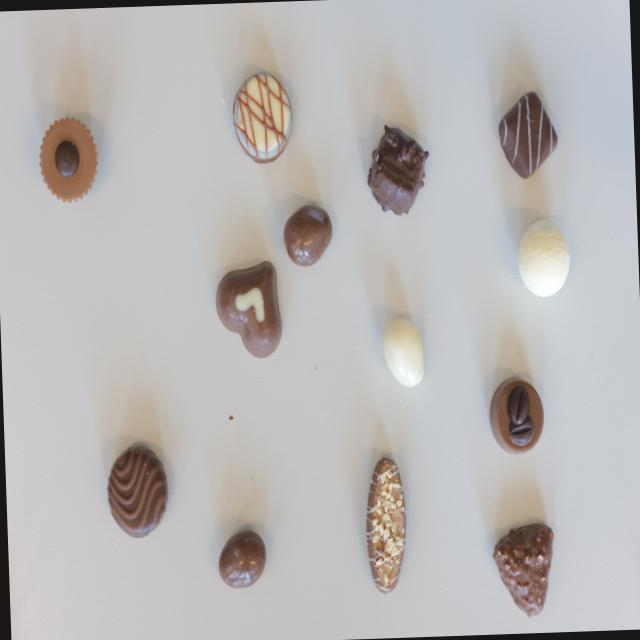Amandina: (362, 455, 408, 595)
Arabia: (488, 376, 546, 456)
Comtesse: (516, 220, 572, 298)
Creme_brulee: (231, 71, 293, 163)
Jelly_Milk: (282, 204, 336, 267), (218, 528, 268, 588)
Jelly_White: (382, 314, 424, 390)
Noblesse: (38, 116, 99, 202)
Noir_authentique: (106, 446, 172, 539)
Passion_au_lait: (216, 260, 284, 358)
Stracciatella: (498, 89, 560, 180)
Tentation_noir: (366, 123, 428, 216)
Triangolo: (491, 520, 558, 618)
